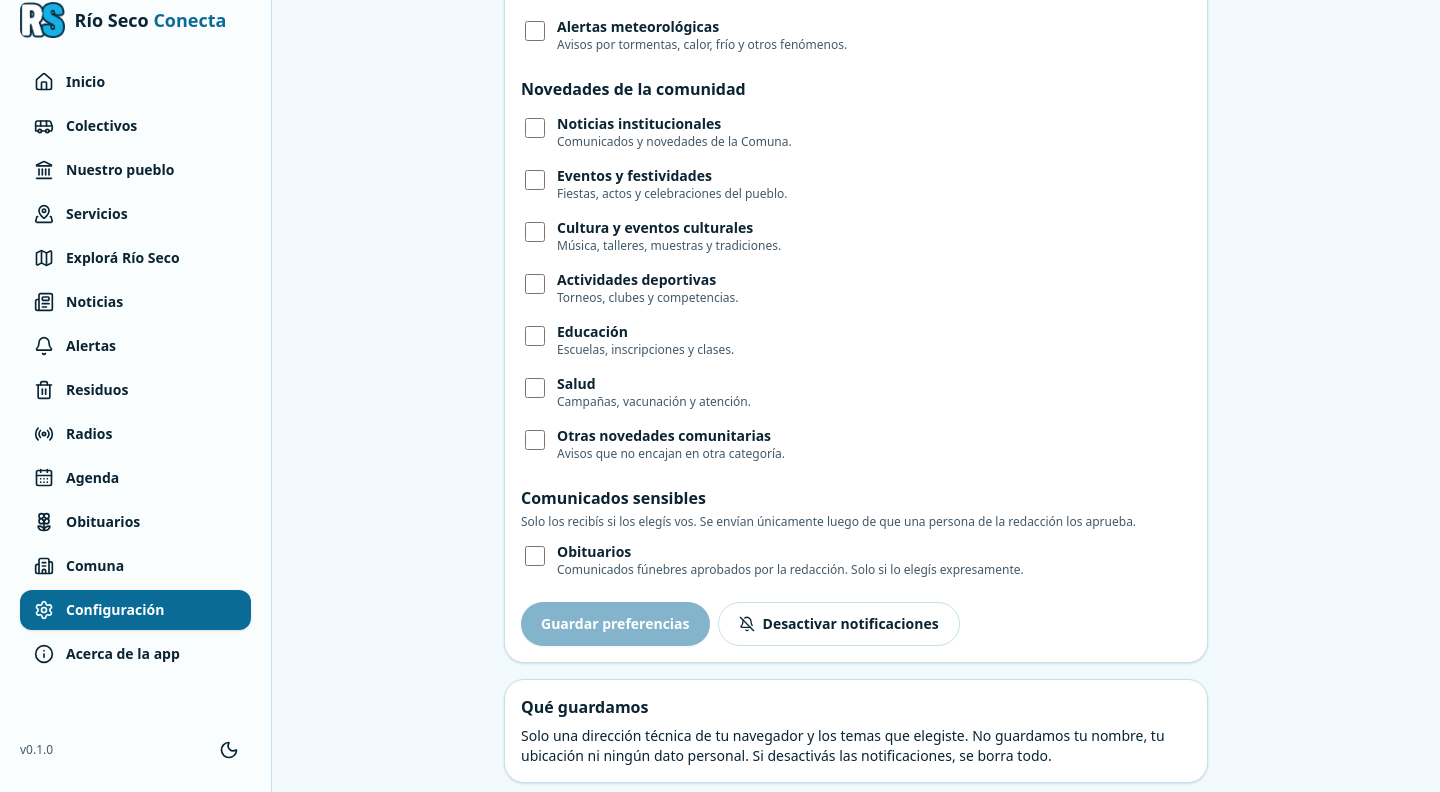
Test case: Configuración → Mis notificaciones › con las notificaciones activas: guardar preferencias y desactivar
(page scrolled)
Expected: the button "Guardar preferencias" is disabled, x1=521 y1=602 x2=710 y2=646
Click the checkbox labelled "Salud Campañas, vacunación y atención." at coordinates (535, 388), box x1=525 y1=378 x2=545 y2=398
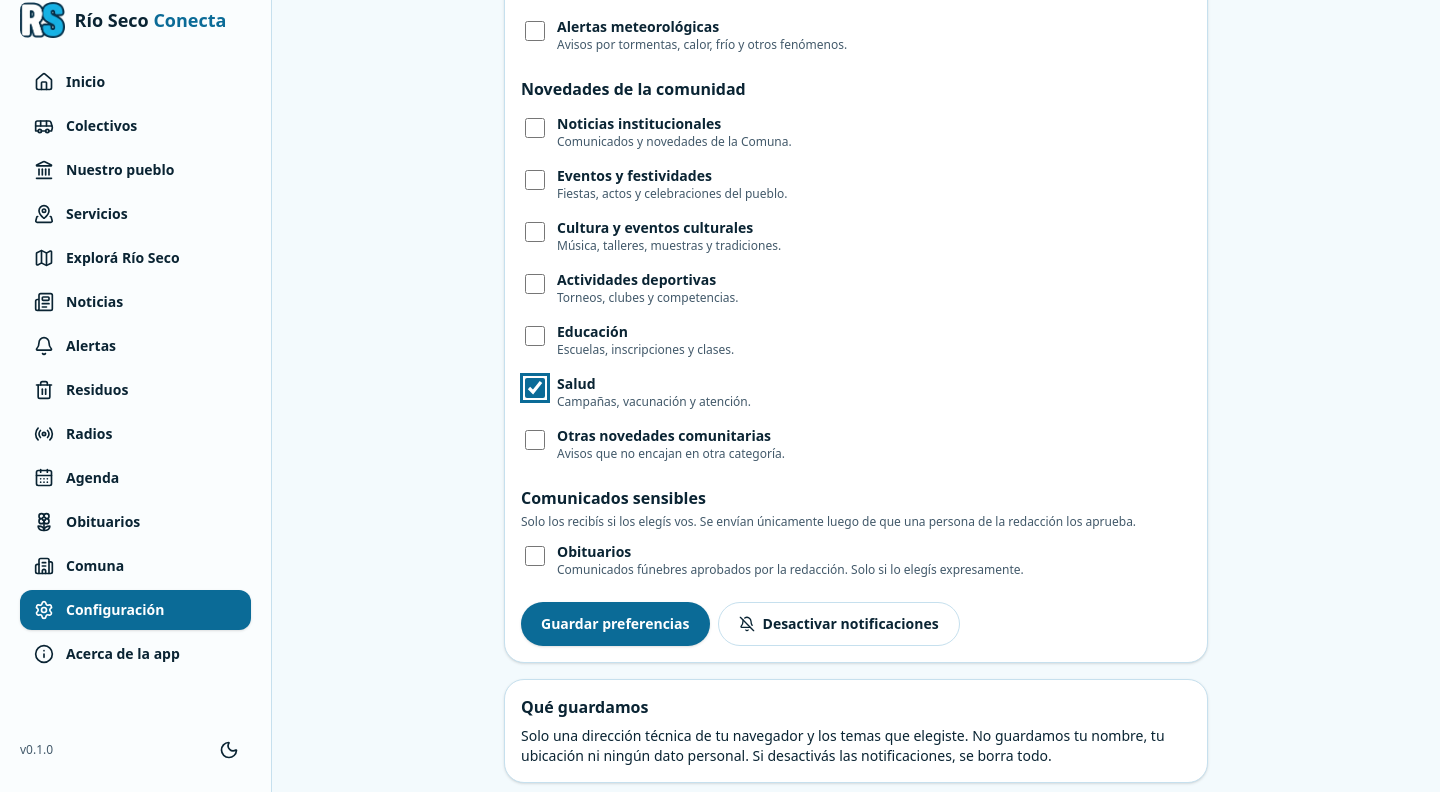
Click the button "Guardar preferencias" at coordinates (615, 624), box x1=521 y1=602 x2=710 y2=646
(page scrolled)
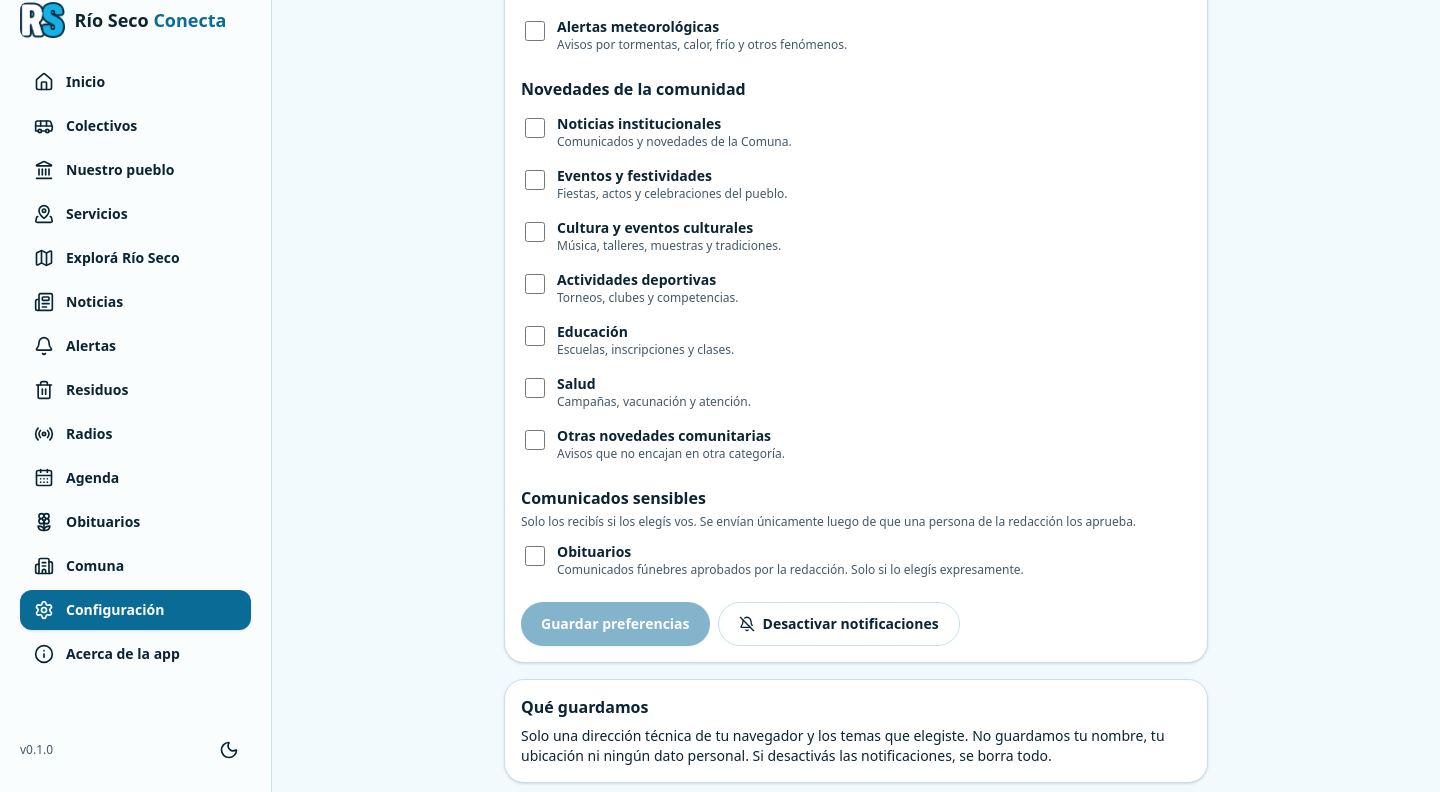
Click the button "Desactivar notificaciones" at coordinates (839, 624), box x1=718 y1=602 x2=960 y2=646
(page scrolled)
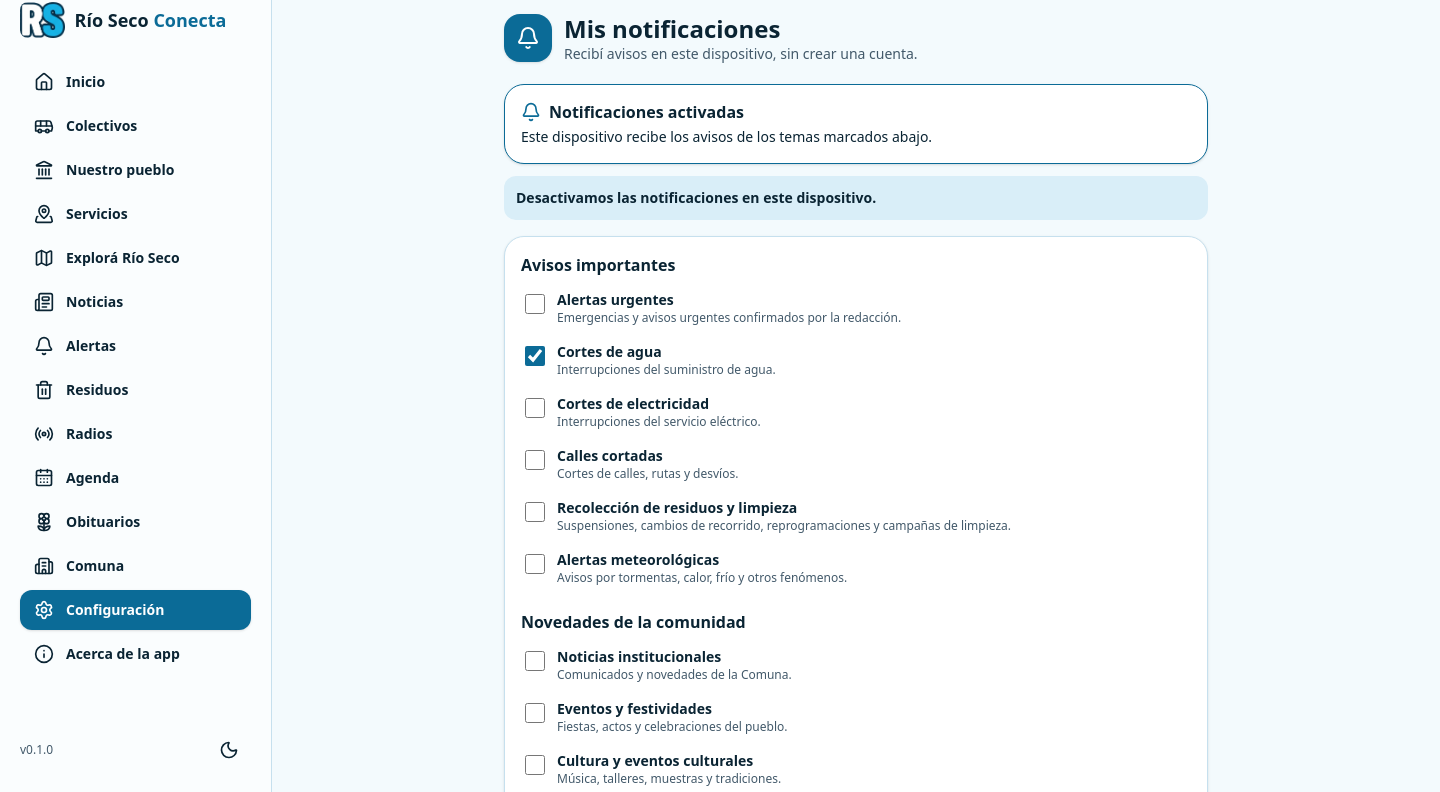
Expected: the text "Desactivamos las notificaciones en este dispositivo." is shown, x1=504 y1=176 x2=1208 y2=220
